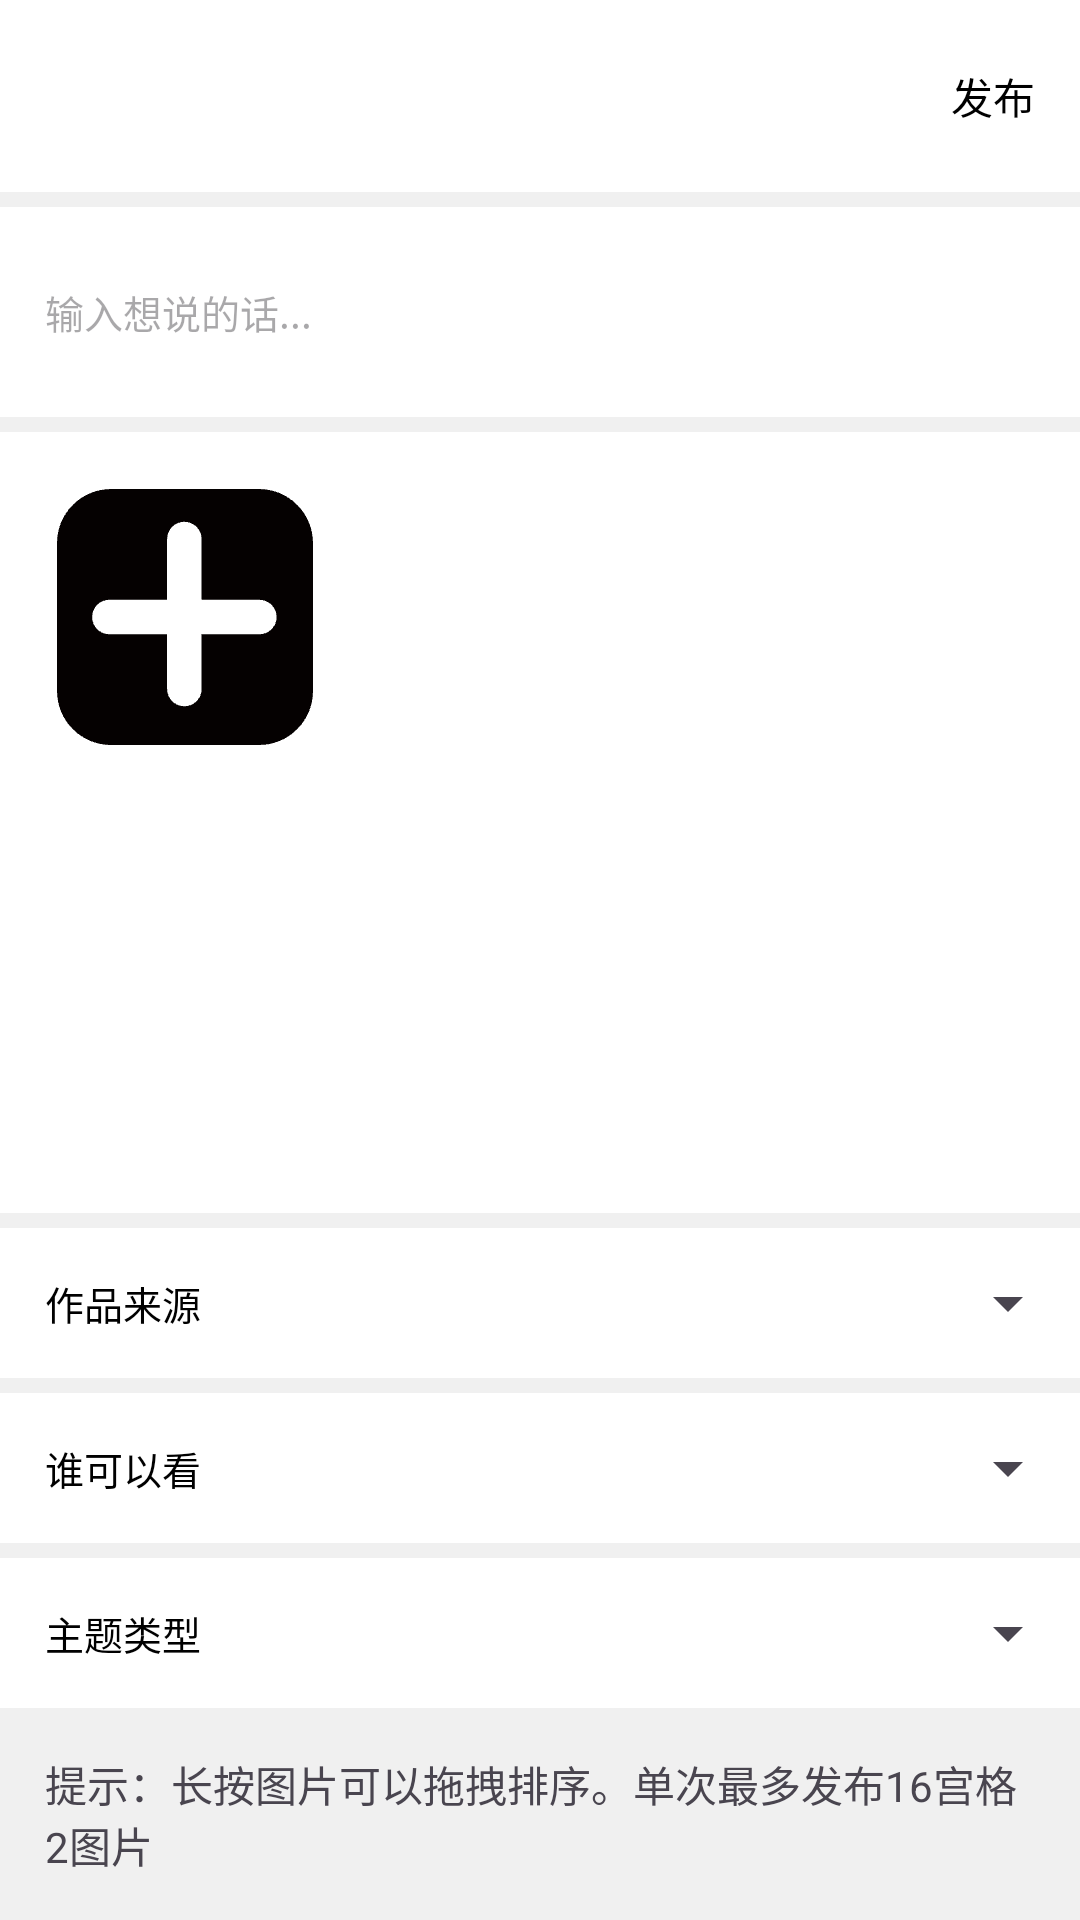

Icons on this 1080 x 1920 Android screen, each with the point to tap as (x,y):
add: (185,617)
